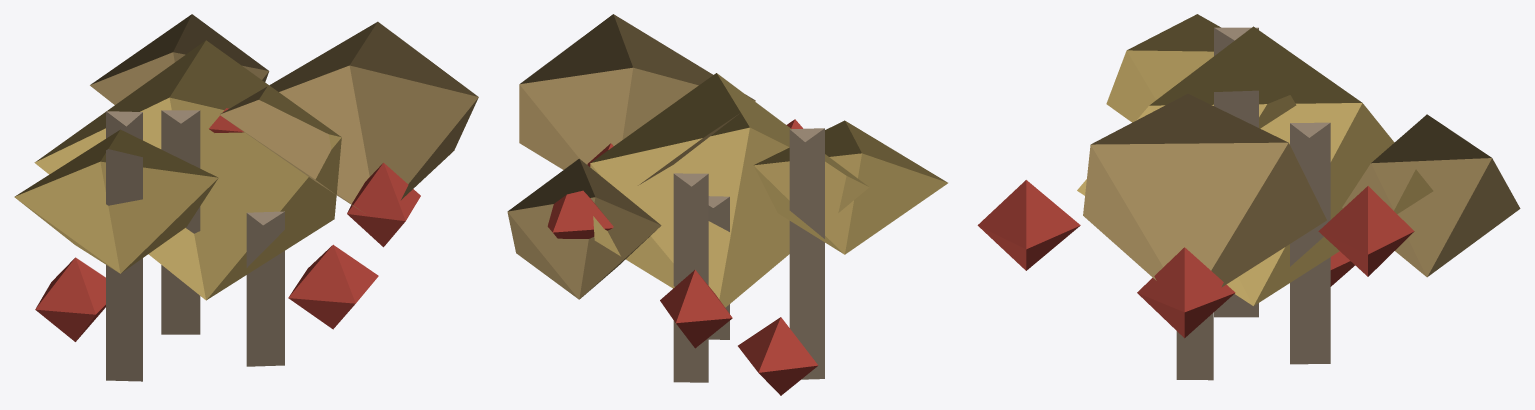
The model's file is shrub.temp.blueberry__autumn.glb.
3 views of the same model, side by side, from view 1: azimuth 30°, elevation 25°; view 2: azimuth 150°, elevation 25°; view 3: azimuth 270°, elevation 25° (orthographic). The views are drawn at different scales.
Parts seen in each view (by area): view 1: shrub.temp.blueberry__autumn; view 2: shrub.temp.blueberry__autumn; view 3: shrub.temp.blueberry__autumn.
Part boxes in pixels (box(x1,y1,x2,y2)): shrub.temp.blueberry__autumn: box(14, 14, 478, 381); shrub.temp.blueberry__autumn: box(507, 14, 947, 395); shrub.temp.blueberry__autumn: box(977, 14, 1520, 380).
Bounding box in the file's own units: 1.27 × 0.9096 × 1.28.
